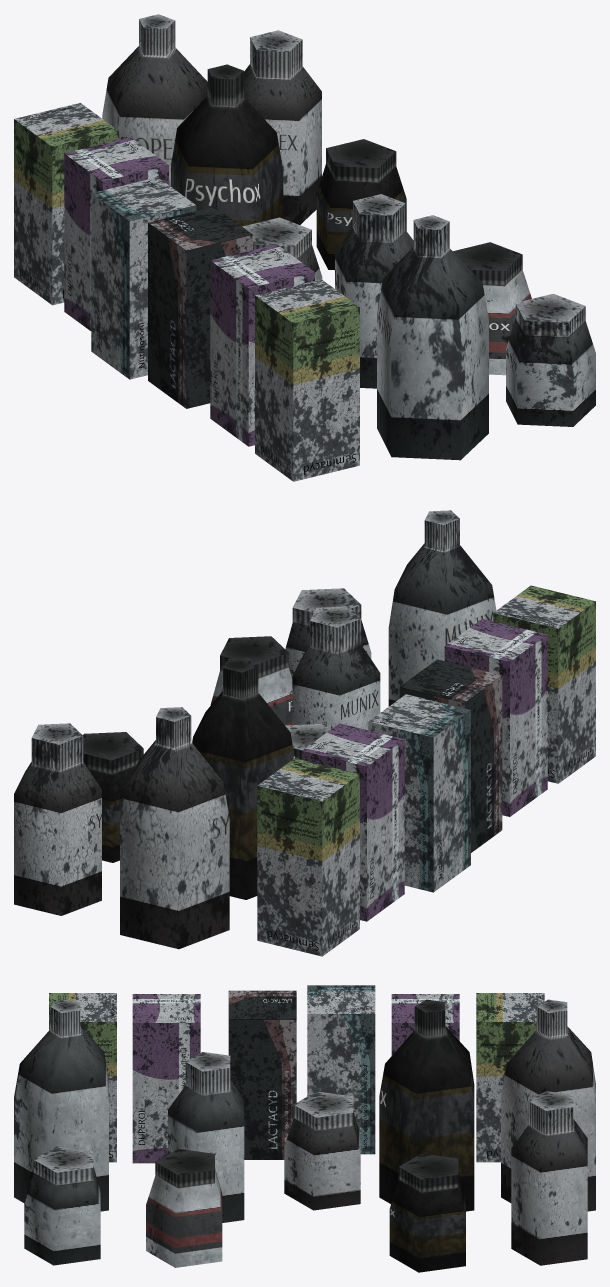
Rendered from medicine_shelf.fbx.
3 views of the same model, one above another, from view 1: azimuth 30°, elevation 25°; view 2: azimuth 150°, elevation 25°; view 3: azimuth 270°, elevation 25° (orthographic). The views are drawn at different scales.
Parts seen in each view (by area): view 1: medicine_shelf; view 2: medicine_shelf; view 3: medicine_shelf.
Part boxes in pixels (x1=…): medicine_shelf: x1=14, y1=14, x2=595, y2=481; medicine_shelf: x1=14, y1=510, x2=595, y2=956; medicine_shelf: x1=14, y1=985, x2=595, y2=1272.
Size of the model in its own units: 37.15 by 22.51 by 62.16.
